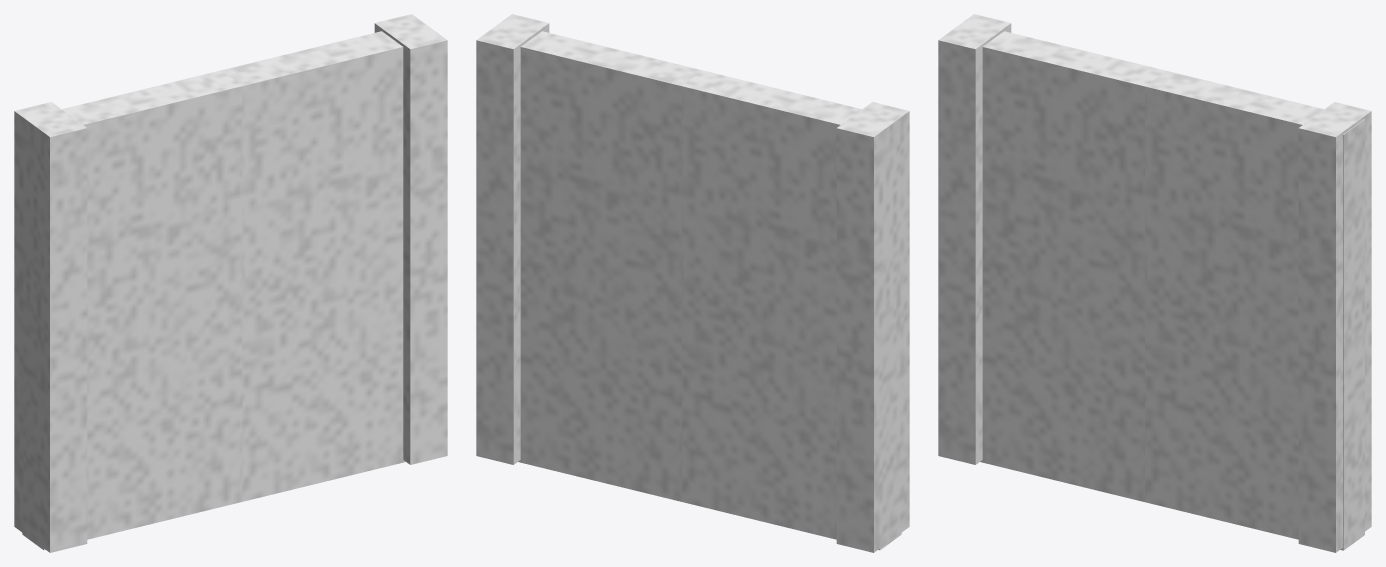
Rendered from Doorway4.fbx.
3 renders of one model, left to right at view 1: azimuth 30°, elevation 25°; view 2: azimuth 150°, elevation 25°; view 3: azimuth 330°, elevation 25°, orthographic.
Parts seen in each view (by area): view 1: Door1, Door, Doorway; view 2: Door1, Door, Doorway; view 3: Door1, Door, Doorway.
Part boxes in pixels (box(x1,y1,x2,y2)): Door1: box(221, 31, 405, 501); Door: box(22, 70, 242, 550); Doorway: box(14, 14, 447, 552); Door1: box(518, 31, 702, 501); Door: box(681, 70, 901, 550); Doorway: box(476, 14, 909, 552); Door1: box(1145, 71, 1364, 550); Door: box(980, 31, 1165, 501); Doorway: box(938, 14, 1371, 552).
Size of the model in its own units: 4.01 by 4.03 by 0.625.
